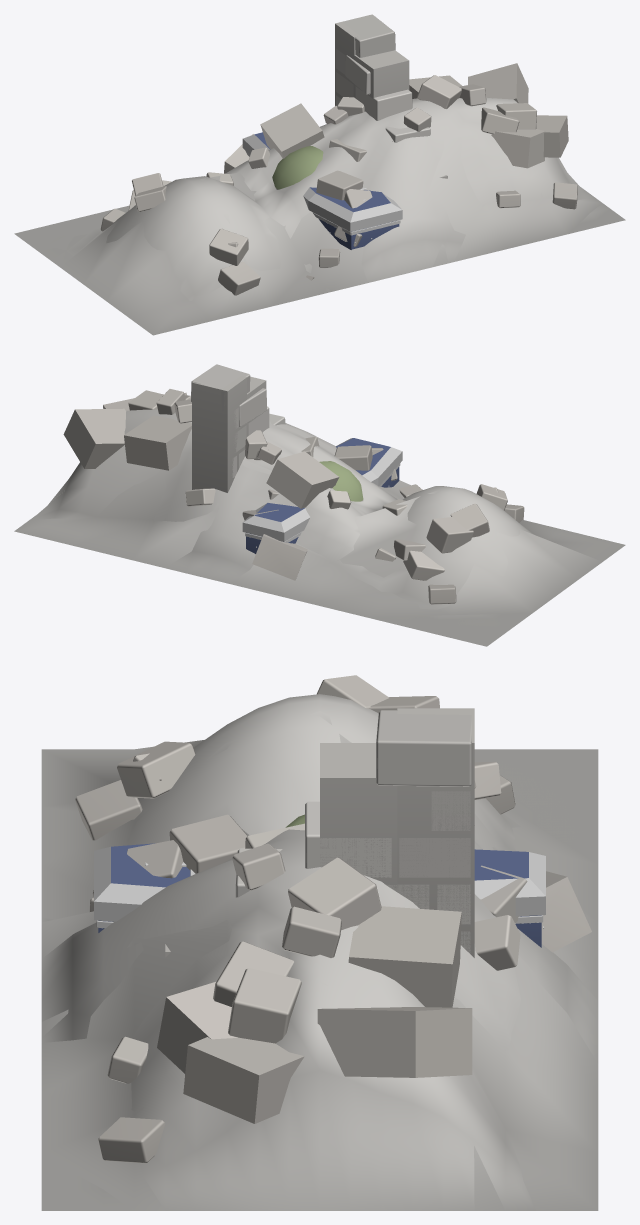
File: tomb.glb
The picture shows the model from 3 angles, top to bottom: view 1: azimuth 30°, elevation 25°; view 2: azimuth 150°, elevation 25°; view 3: azimuth 270°, elevation 25°; orthographic projection. The views are drawn at different scales.
Parts seen in each view (by area): view 1: rubble_spill, rubble_spill__far, rubble_heap, coffin, rubble_heap__far, boulder_moss; view 2: rubble_spill, rubble_spill__far, rubble_heap__far, coffin, rubble_heap, boulder_moss; view 3: rubble_spill, rubble_spill__far, rubble_heap, rubble_heap__far, coffin.
Part boxes in pixels (<box>): rubble_spill: <box>14,64,625,300</box>; rubble_spill__far: <box>15,63,624,335</box>; rubble_heap: <box>329,14,430,161</box>; coffin: <box>242,132,402,249</box>; rubble_heap__far: <box>335,15,447,178</box>; boulder_moss: <box>272,146,323,189</box>; rubble_spill: <box>30,389,536,646</box>; rubble_spill__far: <box>14,392,625,646</box>; rubble_heap__far: <box>192,375,285,492</box>; coffin: <box>242,438,402,553</box>; rubble_heap: <box>191,364,319,499</box>; boulder_moss: <box>319,461,363,501</box>; rubble_spill: <box>41,675,598,1210</box>; rubble_spill__far: <box>41,711,598,1210</box>; rubble_heap: <box>235,710,472,953</box>; rubble_heap__far: <box>165,708,474,957</box>; coffin: <box>94,843,545,947</box>.
Size of the model in its own units: 5.3 by 1.75 by 2.7.
